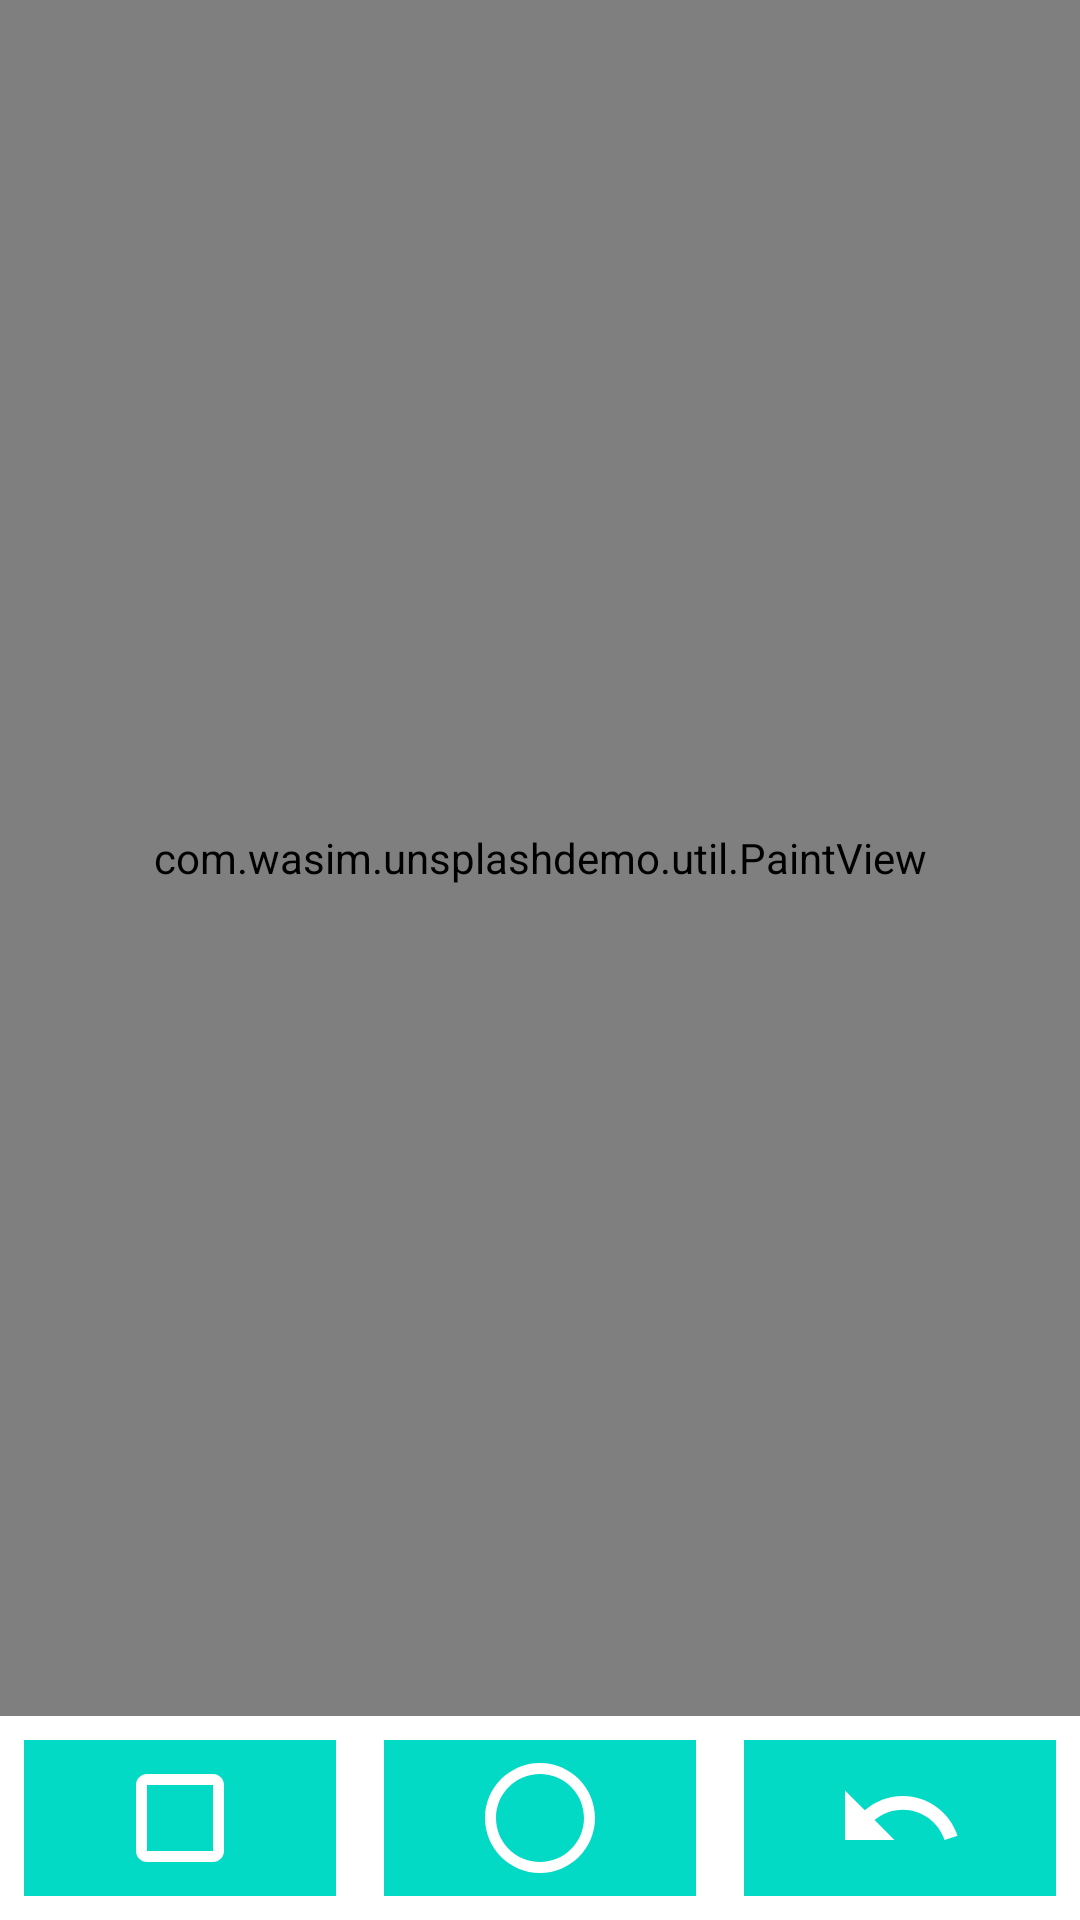

Icons on this 1080 × 1920 Android screen, each with its box as (x1=x1, y1=y1, x2=x2, y2=y2):
circle: (x1=384, y1=1740, x2=696, y2=1896)
square: (x1=24, y1=1740, x2=336, y2=1896)
undo: (x1=744, y1=1740, x2=1056, y2=1896)
